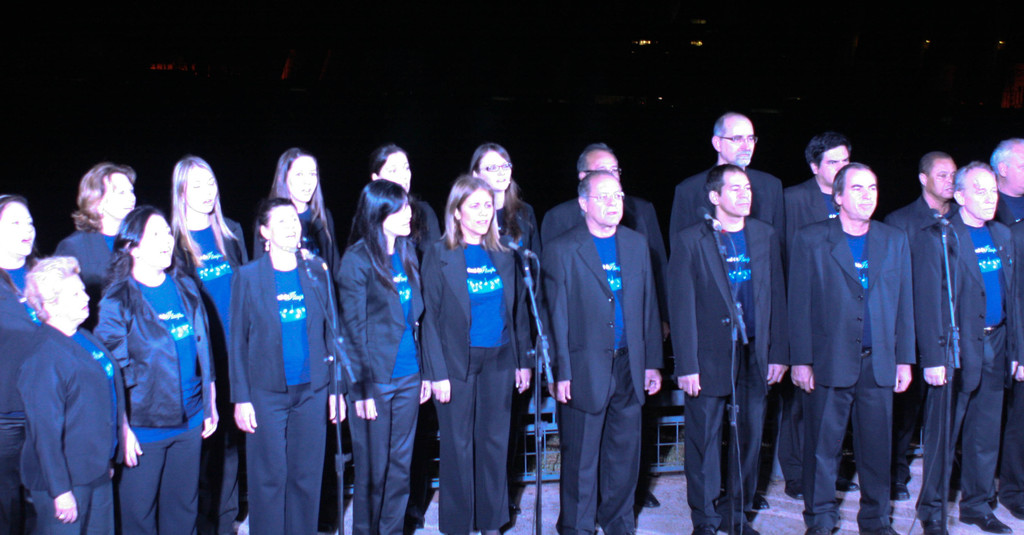Person: (0, 111, 1024, 534)
